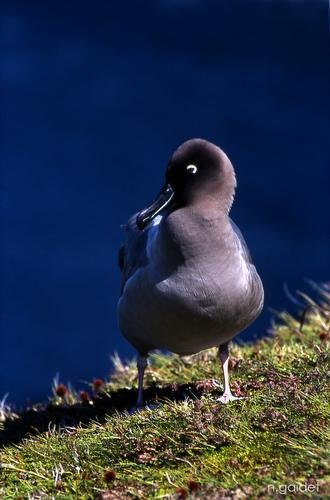003.Sooty_Albatross: (117, 134, 267, 410)
